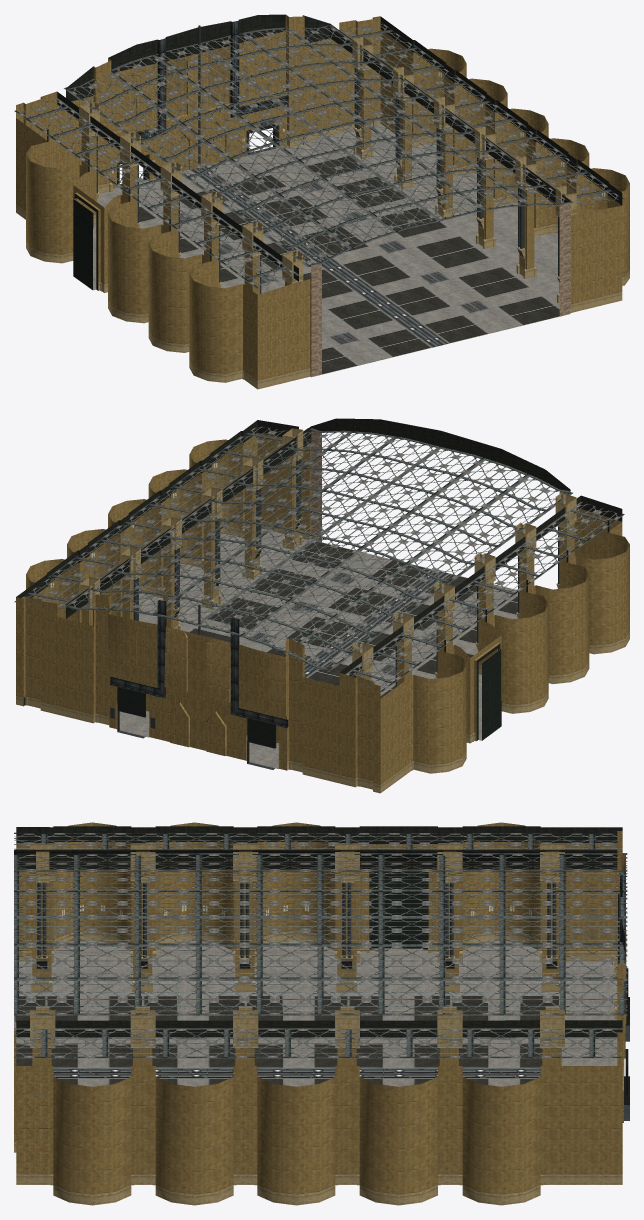
File: thm_nboo_thed_hangar_r5_hangar_mesh_r5.fbx
The picture shows the model from 3 angles, top to bottom: view 1: azimuth 30°, elevation 25°; view 2: azimuth 150°, elevation 25°; view 3: azimuth 270°, elevation 25°; orthographic projection. The views are drawn at different scales.
Visible parts, largest first — view 1: mesh_node; view 2: mesh_node; view 3: mesh_node.
Boxes of the visible parts, left/top/right/bottom form: mesh_node: left=14, top=14, right=629, bottom=389; mesh_node: left=14, top=418, right=629, bottom=793; mesh_node: left=14, top=822, right=629, bottom=1205.
Size of the model in its own units: 107 by 33.82 by 105.
